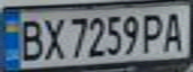2: (87, 12, 109, 57)
5: (103, 12, 124, 57)
7: (66, 13, 90, 60)
9: (121, 11, 145, 55)
A: (160, 8, 190, 54)
B: (12, 16, 45, 62)
P: (139, 10, 169, 54)
X: (39, 14, 69, 62)
